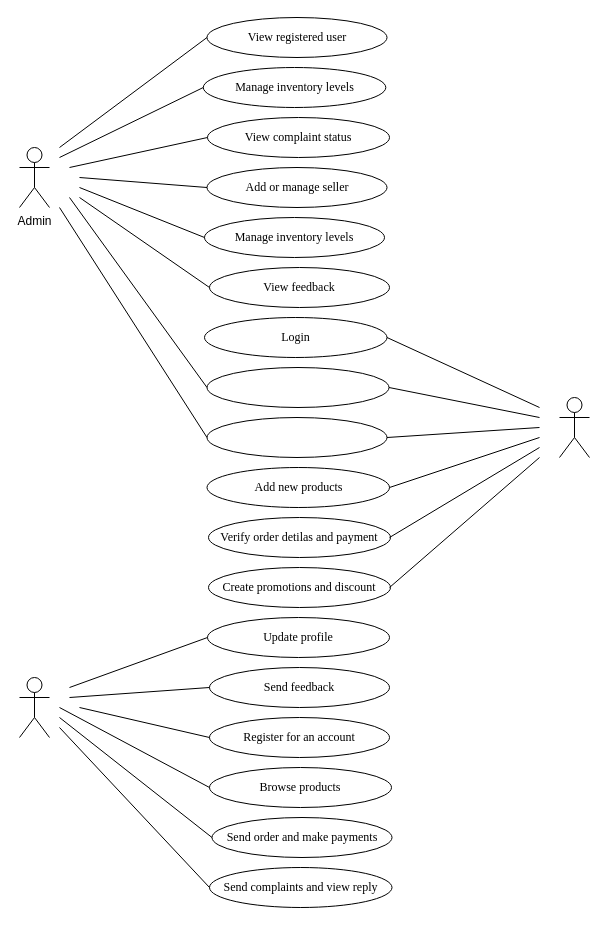
This 607x925 diagram has some shape labels left out. Here are the shapes that lost their labels. From the top down, the centre of each, then its label:
At (297,387): "Change password".
At (296,437): "View order history".
At (574,427): "Seller".
At (34,707): "User".
